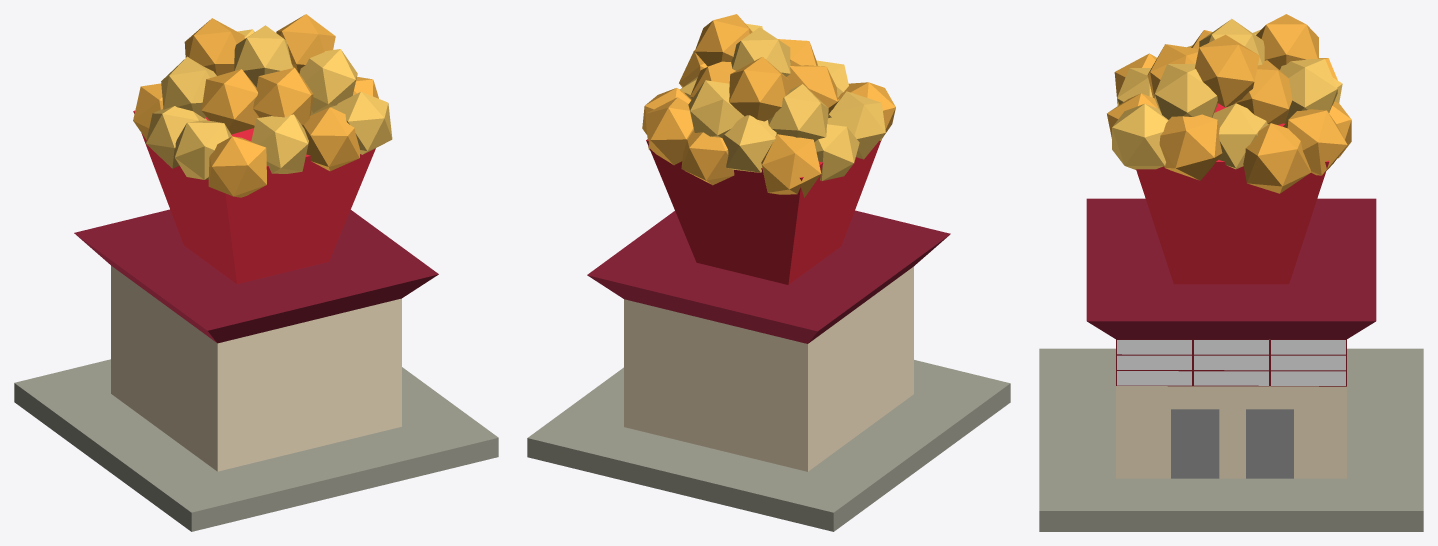
The model's file is building_movietheatre.fbx.
3 views of the same model, side by side, from view 1: azimuth 30°, elevation 25°; view 2: azimuth 150°, elevation 25°; view 3: azimuth 270°, elevation 25° (orthographic). The views are drawn at different scales.
Parts seen in each view (by area): view 1: Cube.001; view 2: Cube.001; view 3: Cube.001.
Boxes of the visible parts, bbox=[...] form: Cube.001: bbox=[14, 14, 498, 531]; Cube.001: bbox=[527, 14, 1010, 531]; Cube.001: bbox=[1039, 14, 1423, 531].
Size of the model in its own units: 50 by 62.25 by 50.
